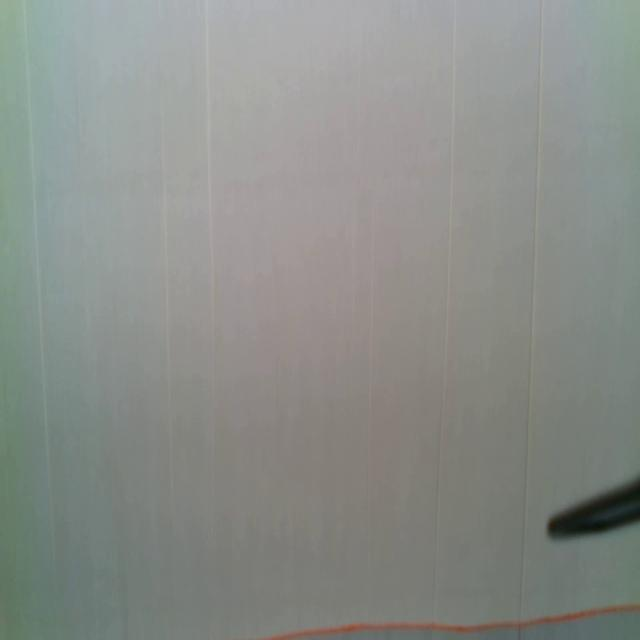crease: (20, 0, 60, 630), (432, 1, 461, 616), (516, 0, 544, 624), (202, 0, 218, 449), (362, 192, 378, 622), (158, 139, 177, 496)
